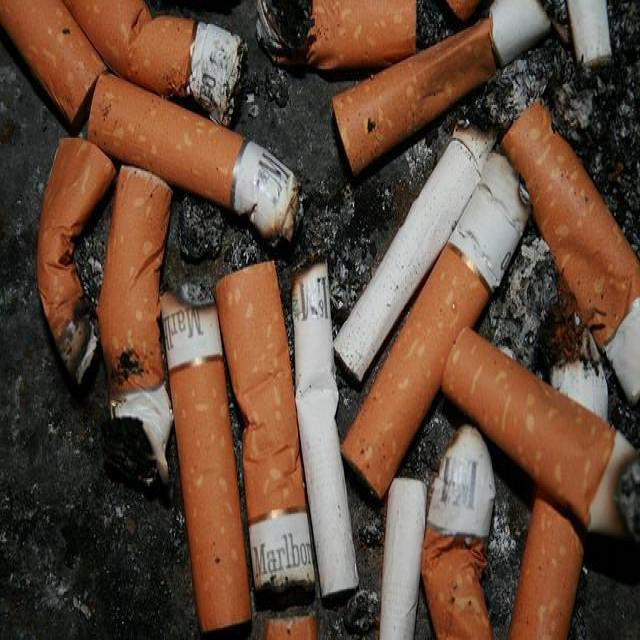cigarette: (96, 70, 310, 242)
